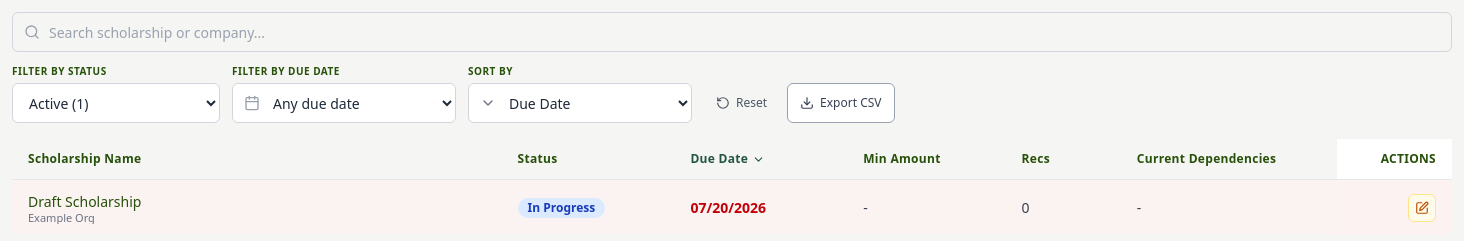
Test case: GridView › shows submitted applications through the submitted status chip
Select "Submitted (1)" in the dropdown labelled "Filter by status": [116, 103] box [12,83,220,123]
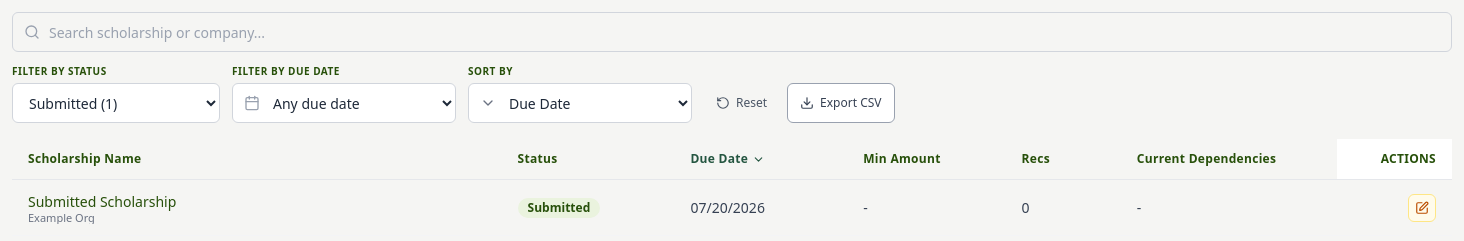
Expected: the text "Submitted Scholarship" is shown, [28,192,176,210]
Expected: the text "Draft Scholarship" is gone
